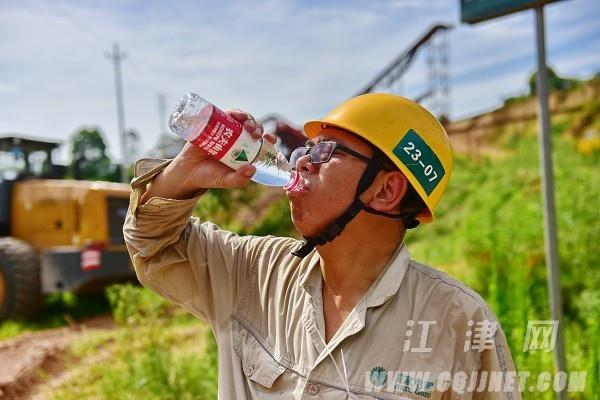helmet: (300, 88, 455, 226)
no-vest: (213, 235, 455, 392)
person: (123, 70, 510, 400)
